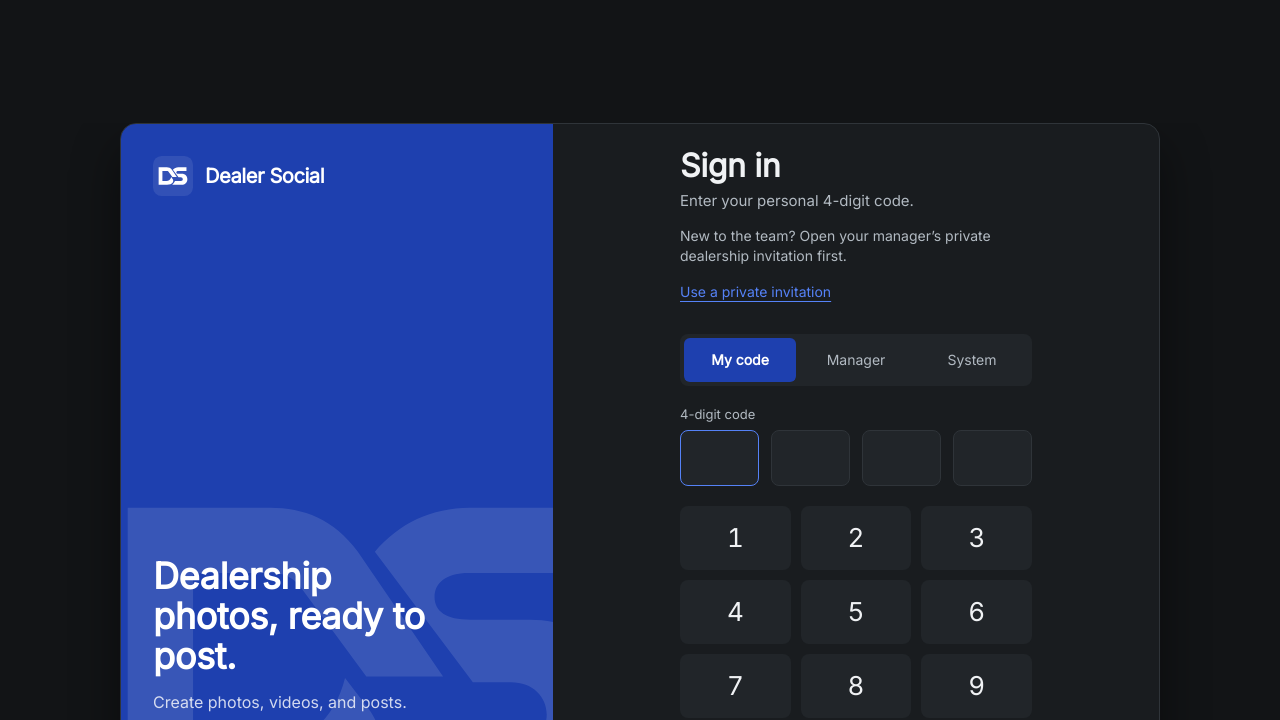
Test case: frontend production pass › offers touch-accessible system admin entry
(page scrolled)
Click the button with aria-label "System admin" at (972,360), box [916, 338, 1028, 382]
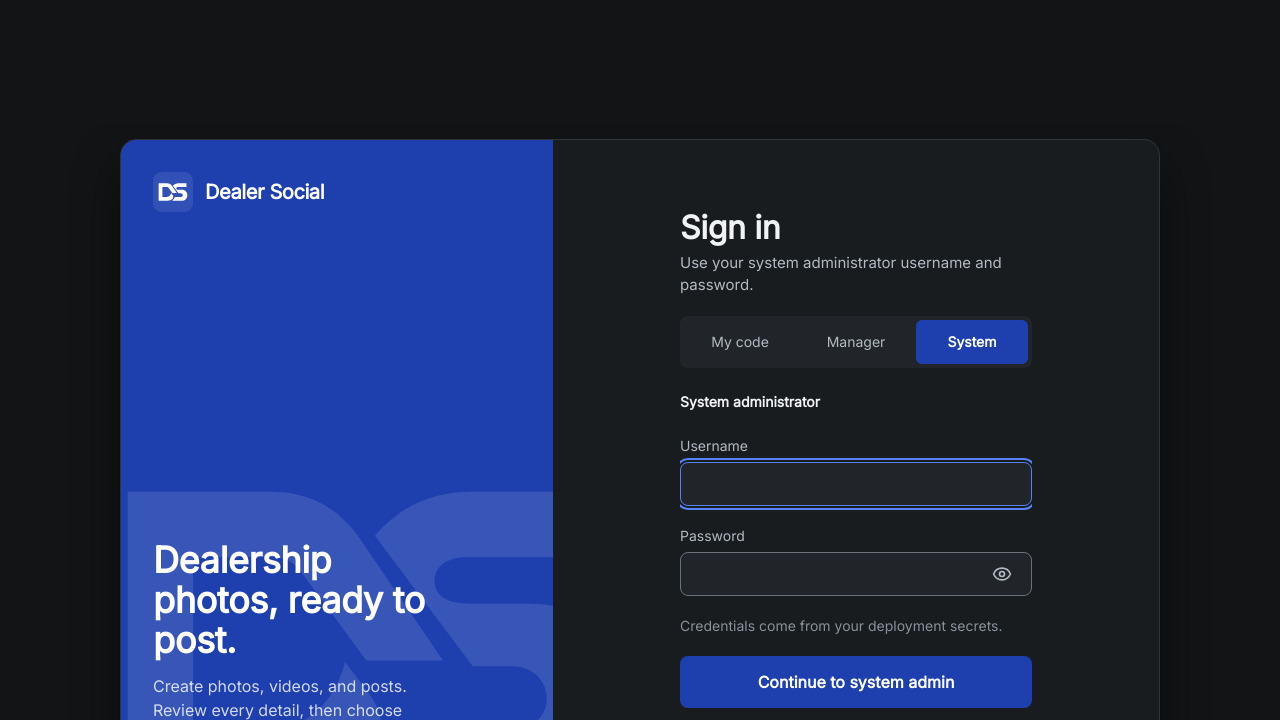
Type "admin" into the field labelled "Username" at (856,484), box [680, 462, 1032, 506]
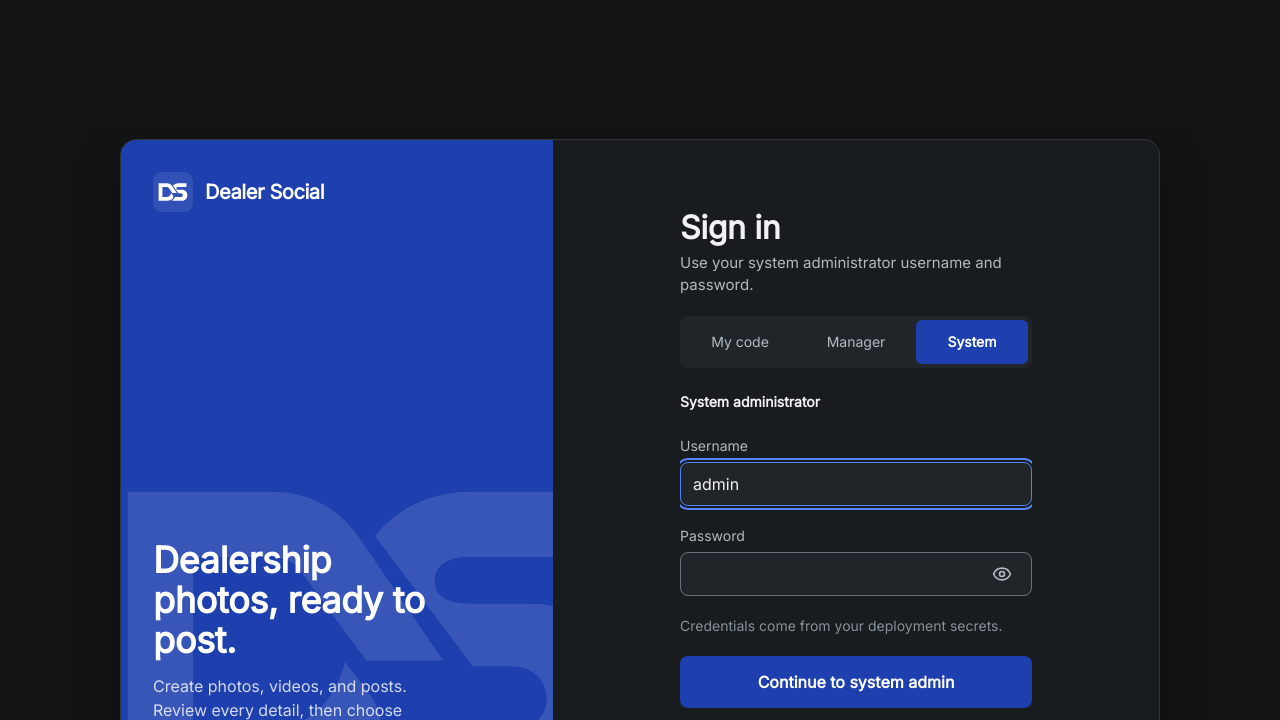
Type "test-Admin9xQ2Z7p" into the password field labelled "Password" at (856,574), box [680, 552, 1032, 596]
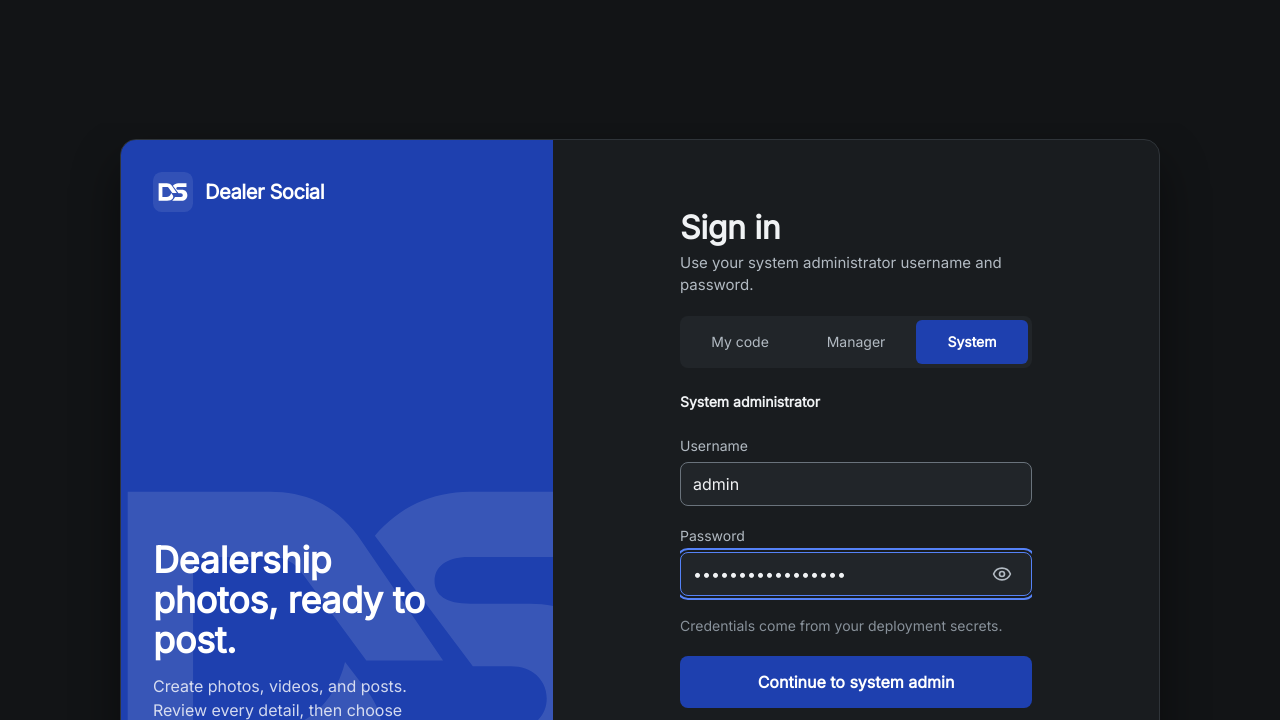
Click the button "Continue to system admin" at (856,682), box [680, 656, 1032, 708]
(page scrolled)
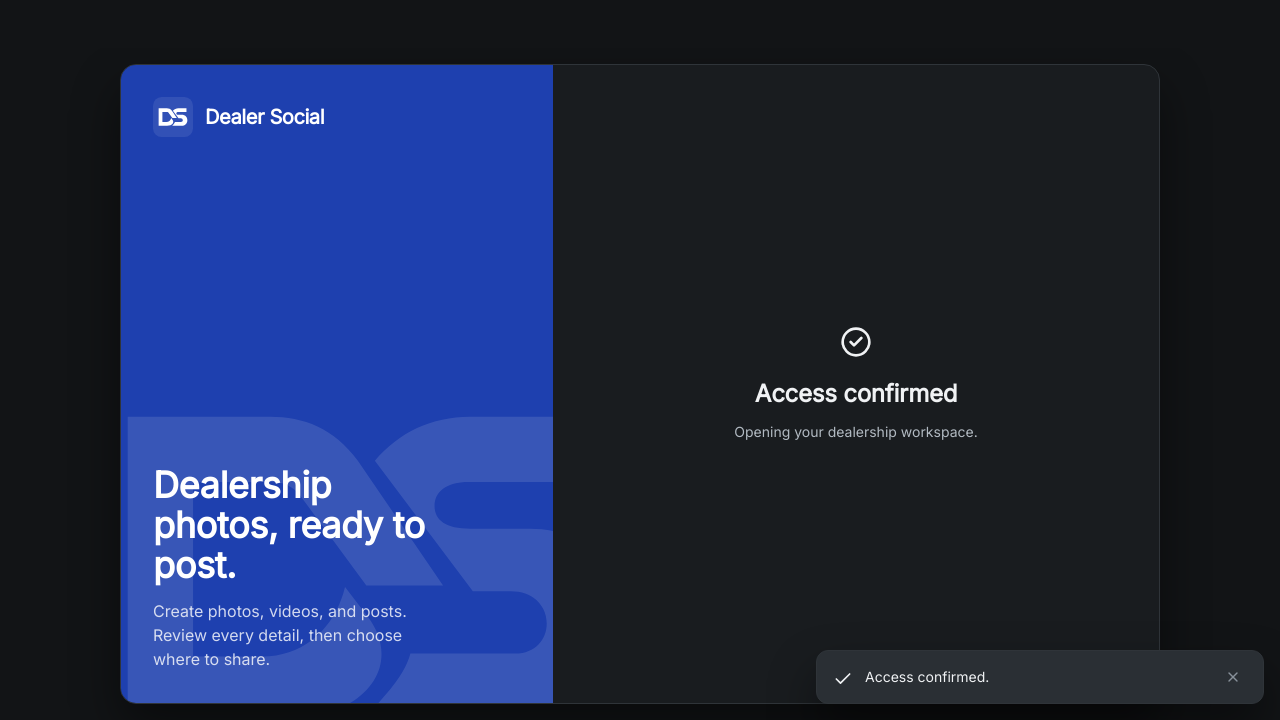
Now the heading "Access confirmed" is shown, box [755, 374, 957, 414]
